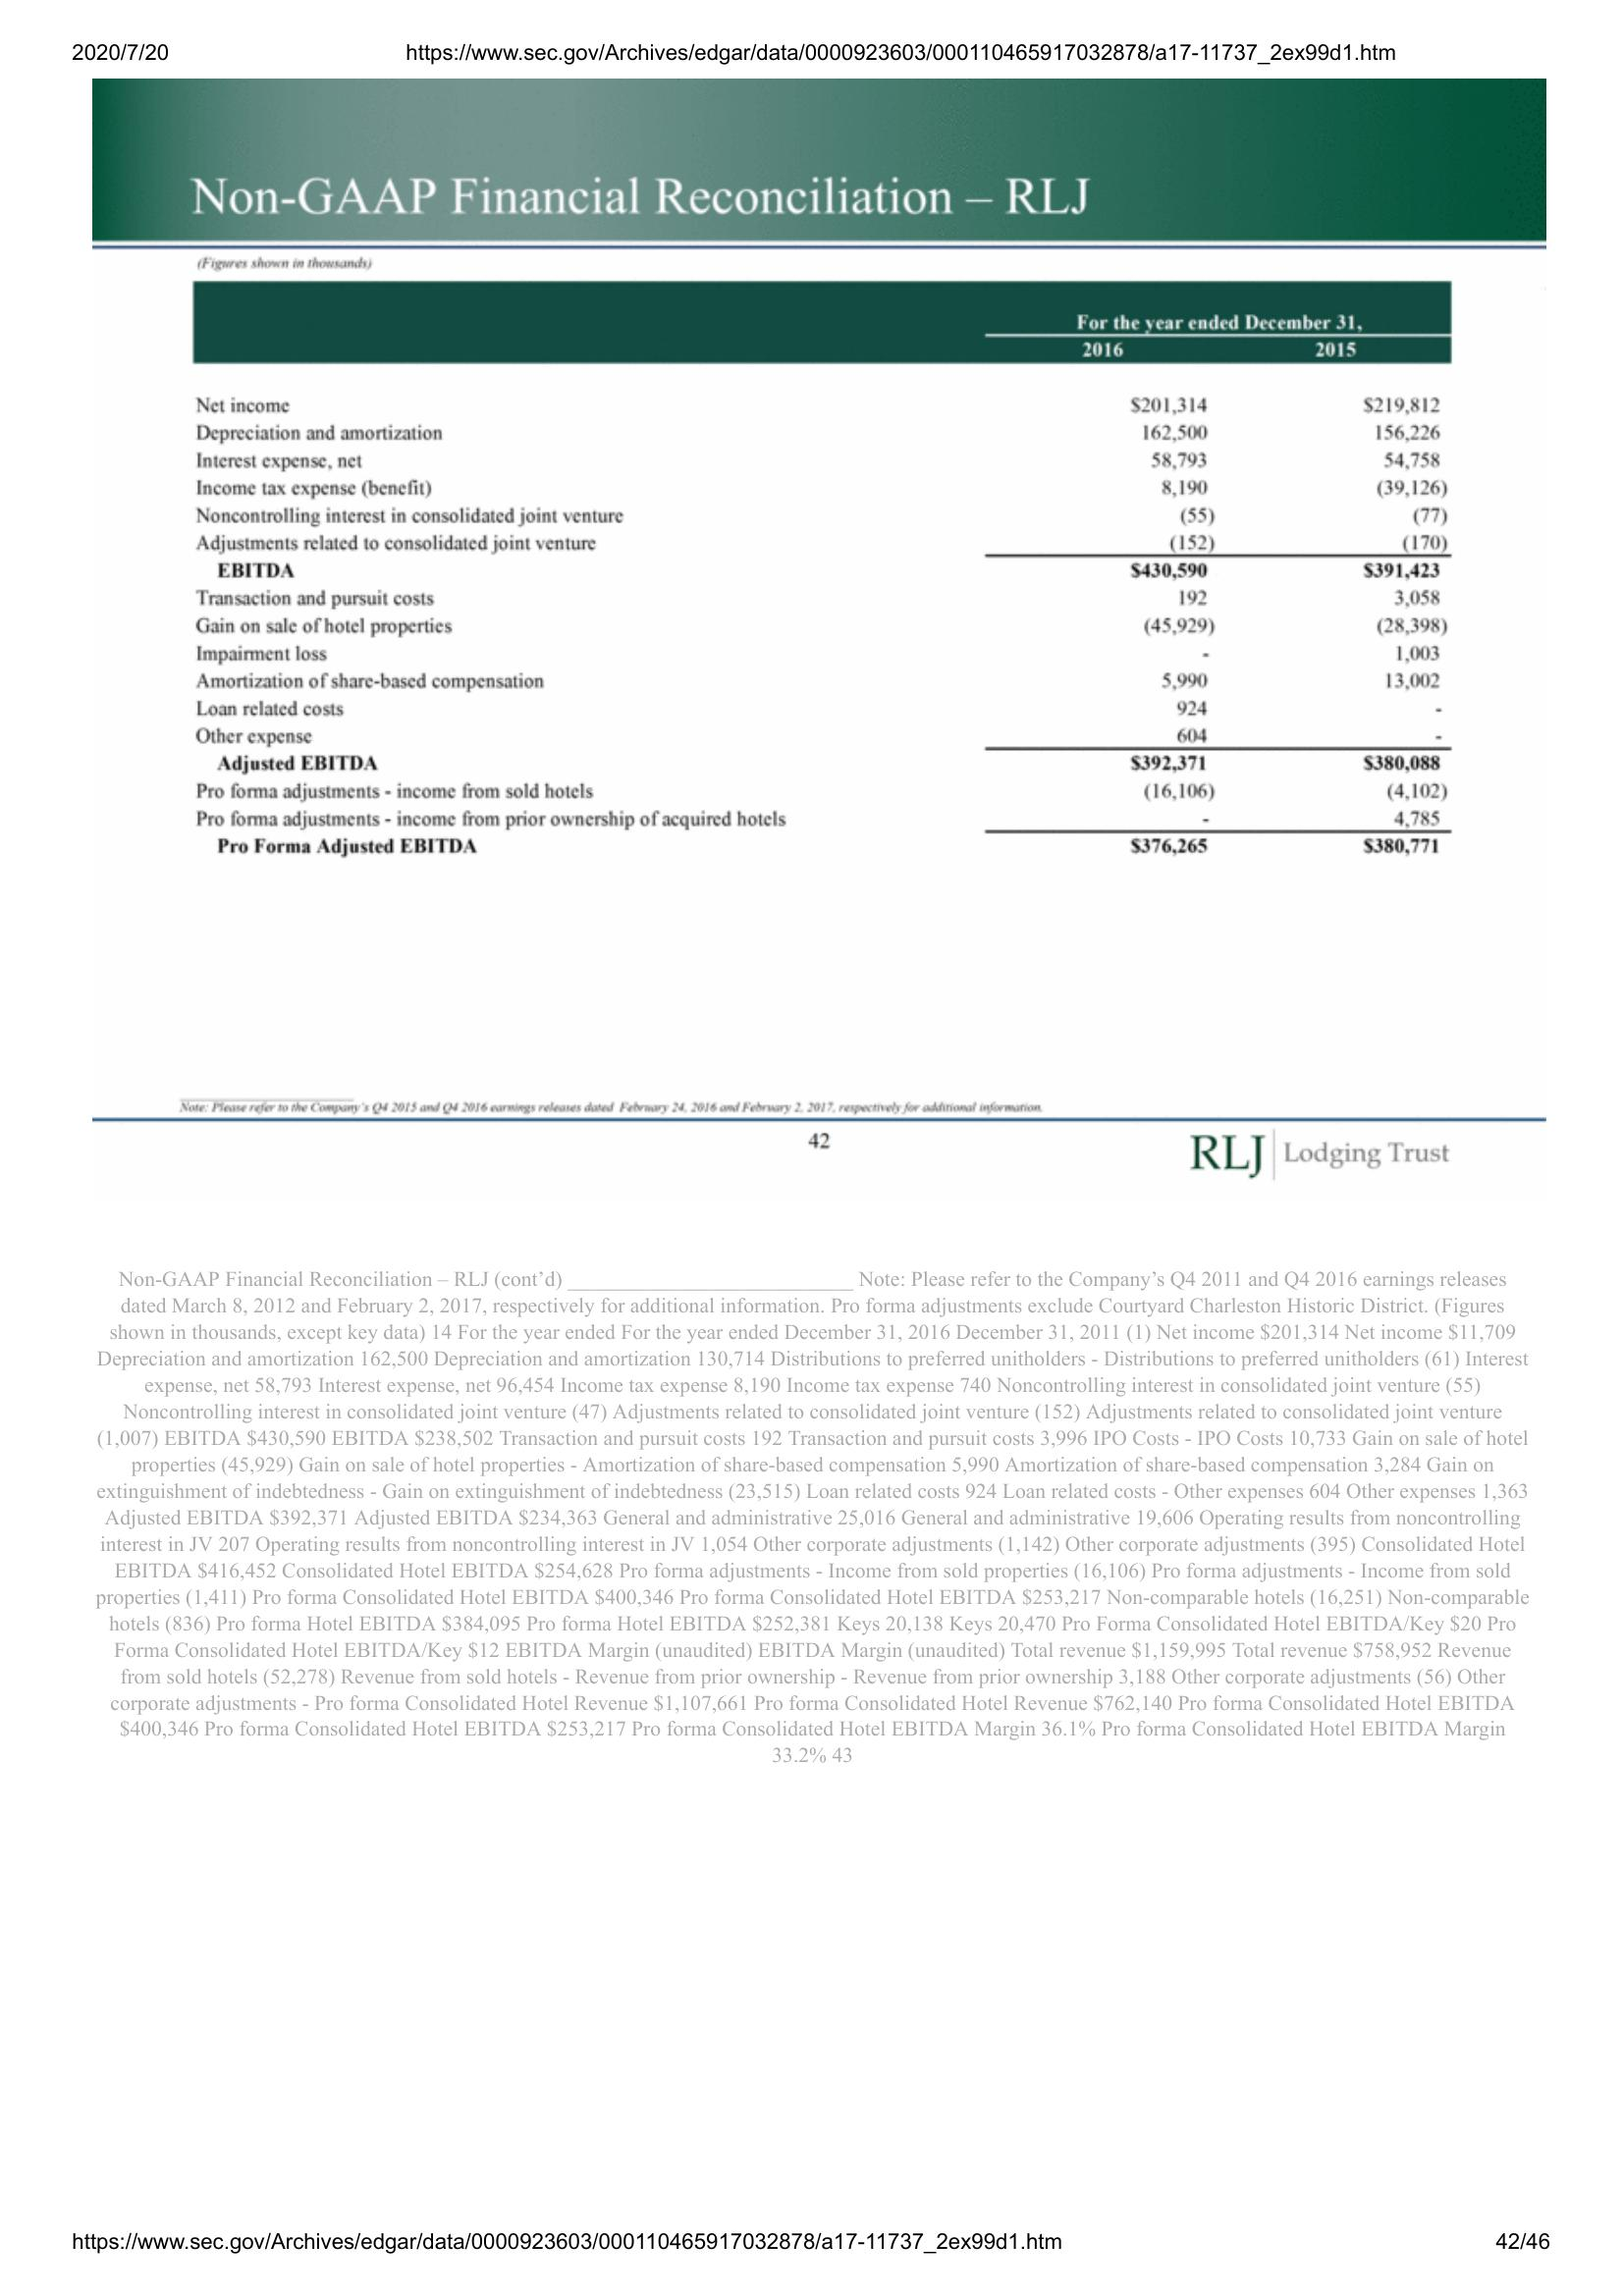table: (184, 274, 1460, 865)
